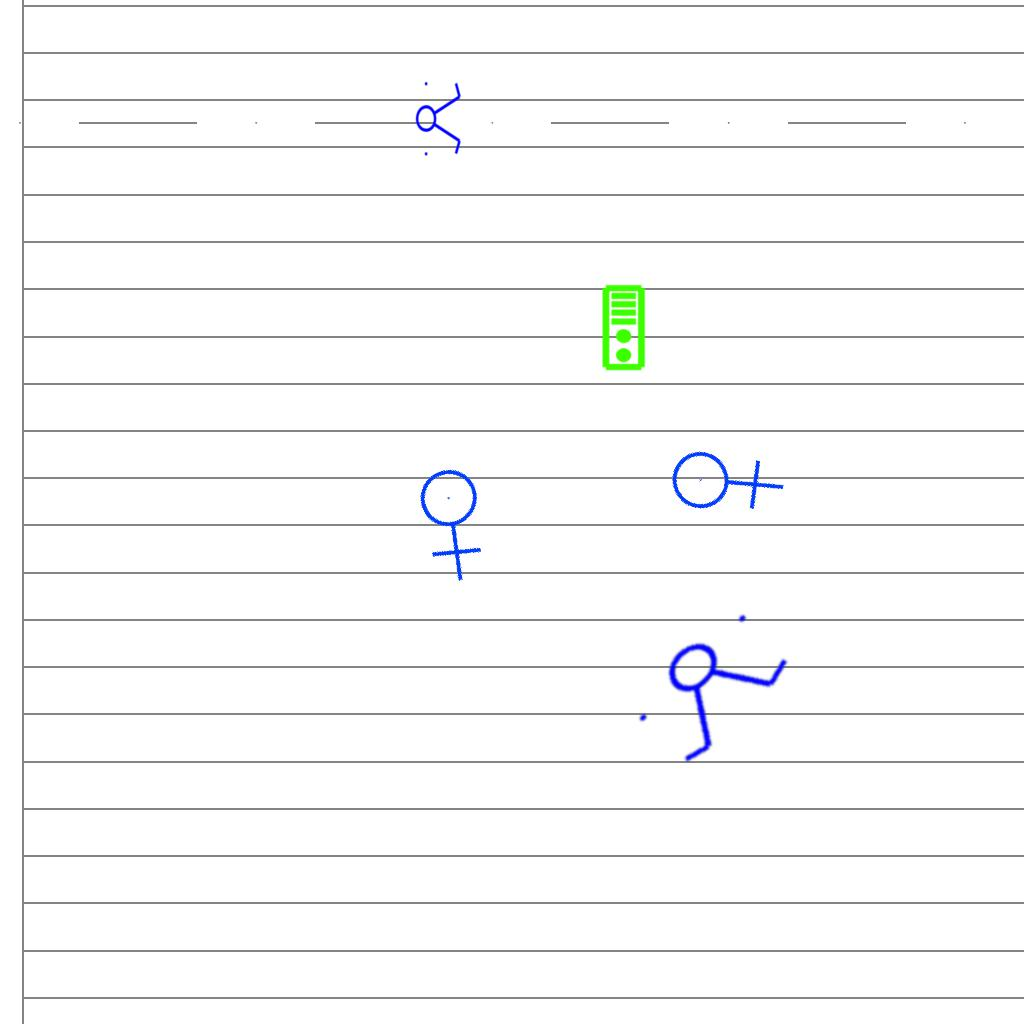Elektroanschluss_allgemein_230V_Geraeteanschlussdose_230V: (653, 409, 790, 547), (388, 450, 523, 586)
Gegensprechanlage_mit_Video: (601, 284, 648, 372)
Serienschalter: (618, 591, 806, 779), (415, 76, 463, 160)
